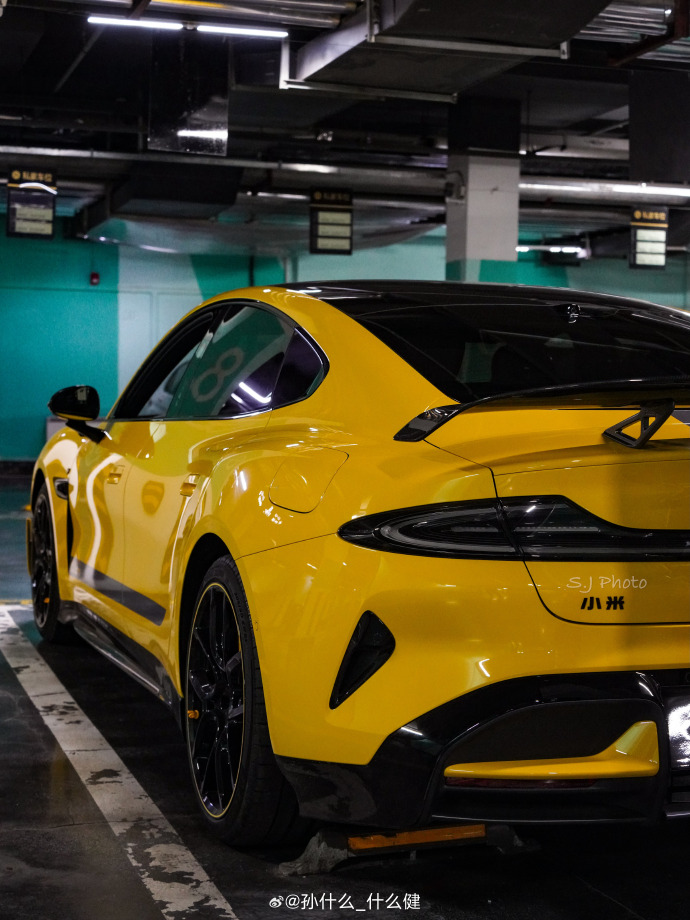su7: (32, 267, 690, 844)
